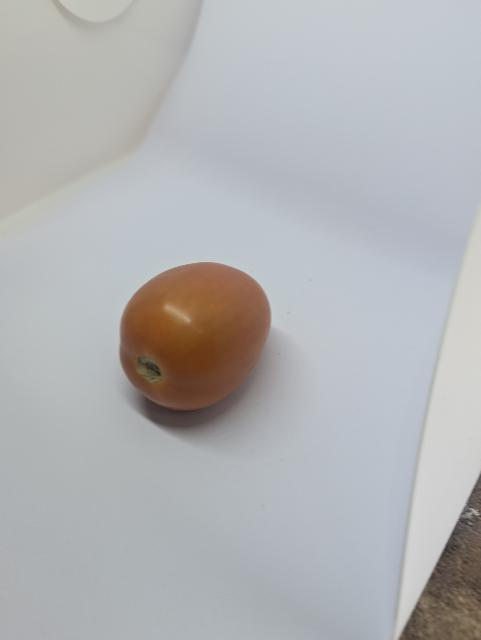red: (111, 255, 278, 414)
